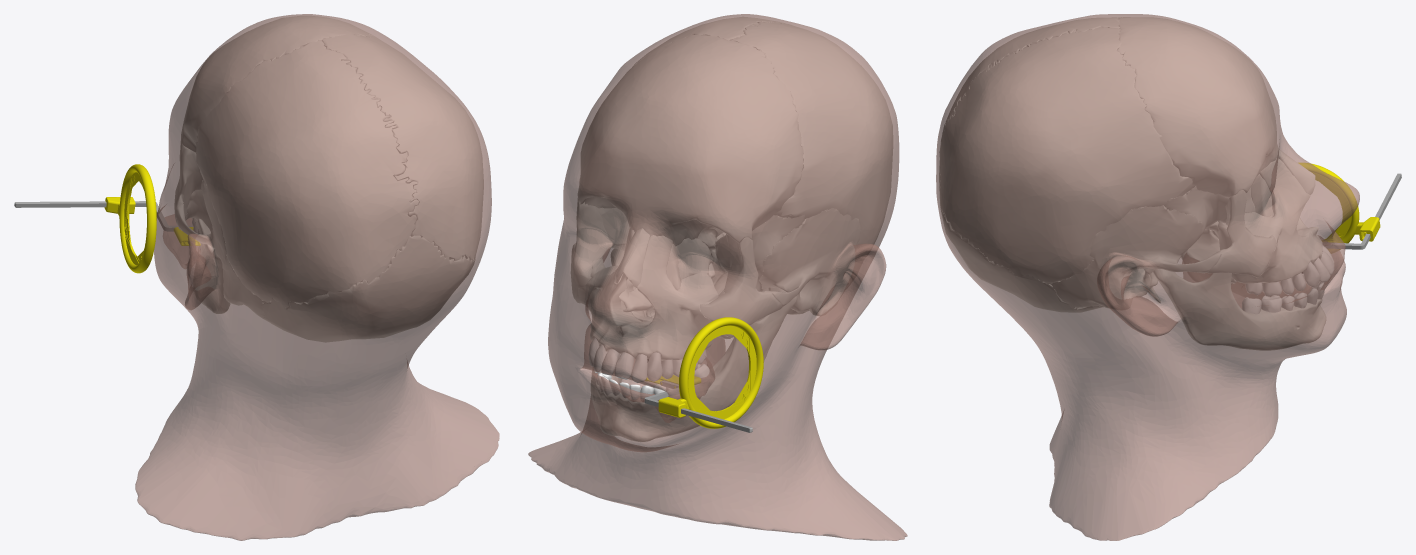
3 renders of one model, left to right at view 1: azimuth 30°, elevation 25°; view 2: azimuth 150°, elevation 25°; view 3: azimuth 270°, elevation 25°, orthographic. The views are drawn at different scales.
Visible parts, largest first — view 1: Skin_yellow_rinn_holder_second_quadrant:Group51681, Cranium, pTorus1, Mandible, pCube57, plaatje_cover3; view 2: Skin_yellow_rinn_holder_second_quadrant:Group51681, Cranium, Mandible, pTorus1, plaatje_cover3, pCube57, pCube67; view 3: Skin_yellow_rinn_holder_second_quadrant:Group51681, Cranium, Mandible, pTorus1, plaatje_cover3, pCube57.
Boxes of the visible parts, left/top/right/bottom form: Skin_yellow_rinn_holder_second_quadrant:Group51681: left=135, top=14, right=499, bottom=540; Cranium: left=174, top=16, right=483, bottom=342; pTorus1: left=119, top=164, right=156, bottom=273; Mandible: left=195, top=219, right=229, bottom=313; pCube57: left=14, top=201, right=192, bottom=231; plaatje_cover3: left=124, top=172, right=145, bottom=265; Skin_yellow_rinn_holder_second_quadrant:Group51681: left=528, top=14, right=907, bottom=540; Cranium: left=571, top=17, right=892, bottom=382; Mandible: left=591, top=249, right=797, bottom=441; pTorus1: left=679, top=317, right=763, bottom=428; plaatje_cover3: left=688, top=325, right=756, bottom=419; pCube57: left=644, top=380, right=752, bottom=432; pCube67: left=658, top=397, right=689, bottom=417; Skin_yellow_rinn_holder_second_quadrant:Group51681: left=936, top=14, right=1359, bottom=540; Cranium: left=939, top=17, right=1333, bottom=312; Mandible: left=1153, top=252, right=1325, bottom=350; pTorus1: left=1299, top=163, right=1359, bottom=249; plaatje_cover3: left=1313, top=173, right=1351, bottom=242; pCube57: left=1324, top=173, right=1401, bottom=249.
Size of what is drawn, in the model's own units: 25 by 31.48 by 29.42.
